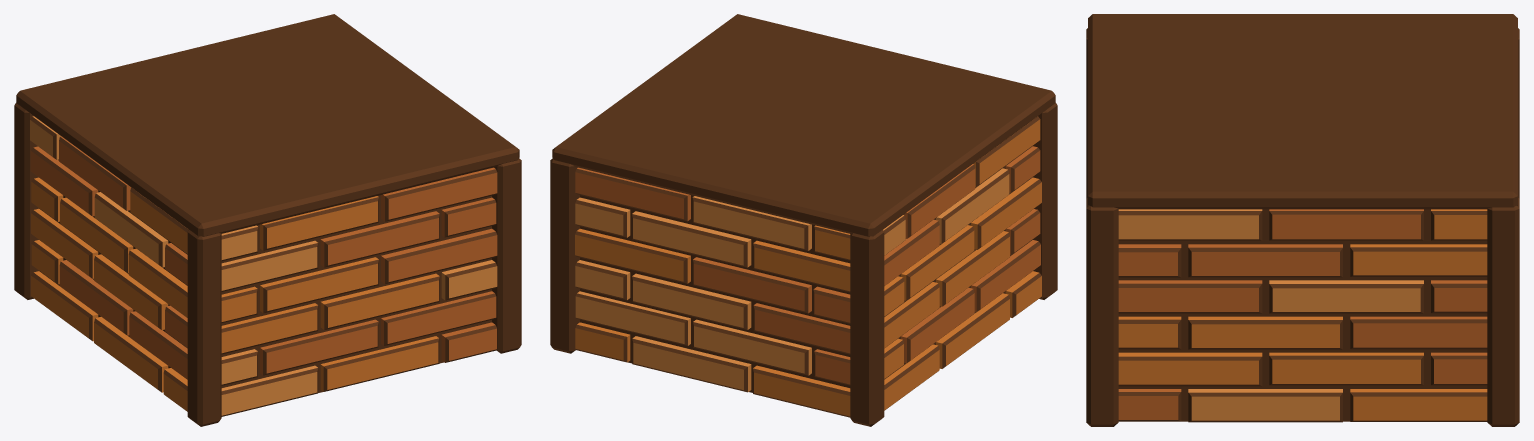
The model's file is block_wood_body.glb.
3 views of the same model, side by side, from view 1: azimuth 30°, elevation 25°; view 2: azimuth 150°, elevation 25°; view 3: azimuth 270°, elevation 25° (orthographic). The views are drawn at different scales.
Visible parts, largest first — view 1: WoodBody; view 2: WoodBody; view 3: WoodBody.
Part boxes in pixels (x1,y1,x2,y2): WoodBody: (14, 14, 521, 426); WoodBody: (550, 14, 1057, 426); WoodBody: (1086, 14, 1519, 426).
Size of the model in its own units: 1.34 by 0.8 by 1.34.
